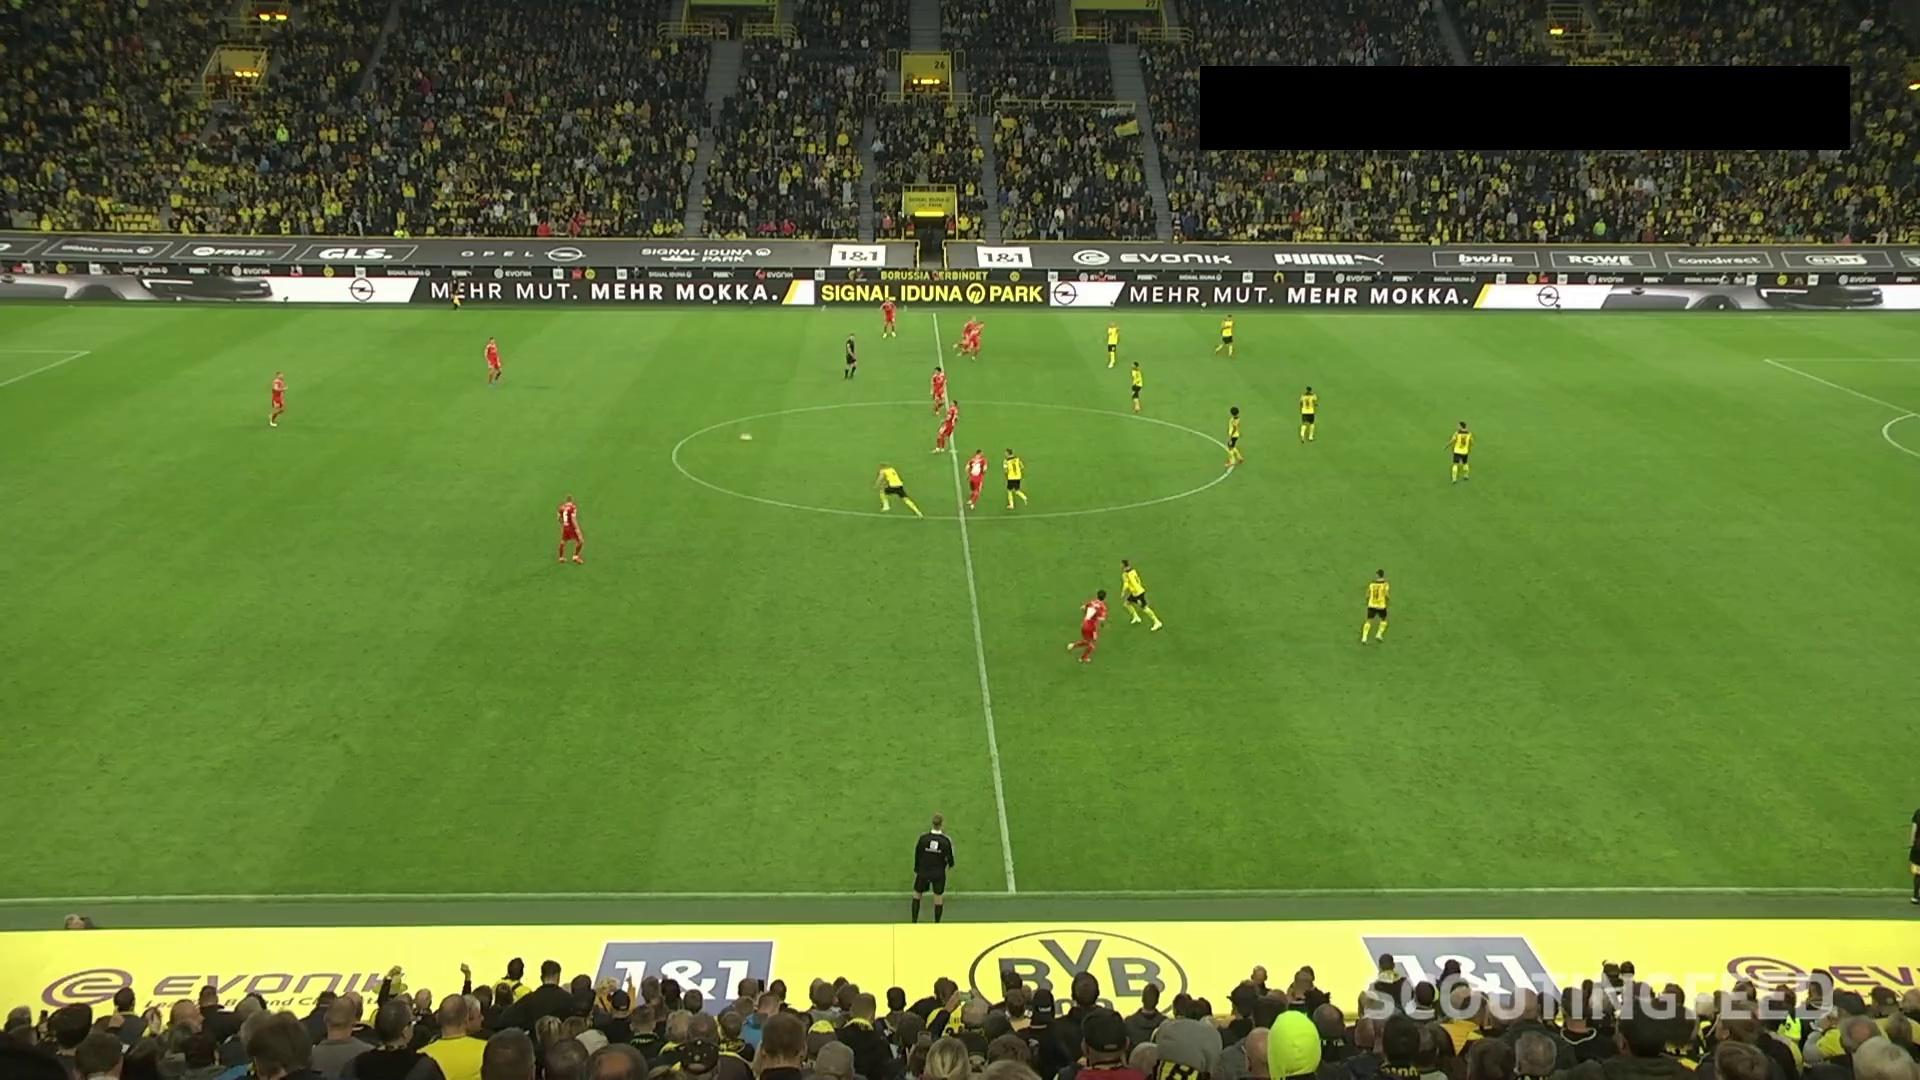Location-of-ball: (737, 425, 756, 459)
